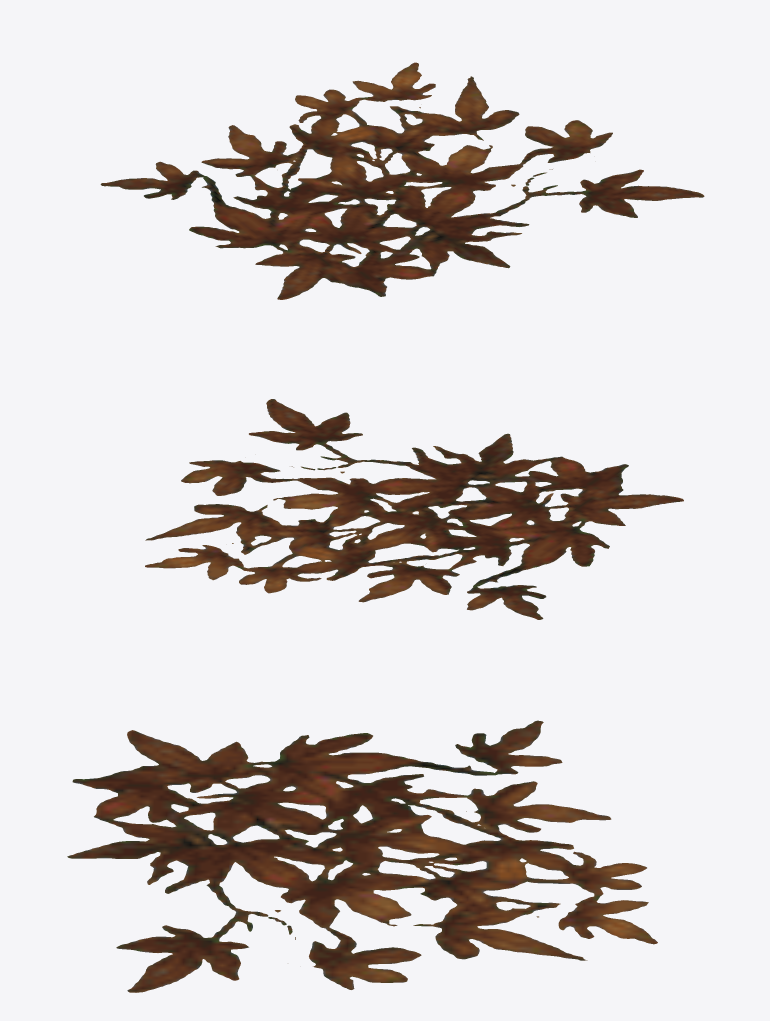
Rendered from 7003_Item_luoye_3.FBX.
The picture shows the model from 3 angles, top to bottom: view 1: azimuth 30°, elevation 25°; view 2: azimuth 150°, elevation 25°; view 3: azimuth 270°, elevation 25°; orthographic projection. The views are drawn at different scales.
Parts seen in each view (by area): view 1: 7003_Item_luoye_3; view 2: 7003_Item_luoye_3; view 3: 7003_Item_luoye_3.
Part boxes in pixels (x1,y1,x2,y2): 7003_Item_luoye_3: (100,62,704,299); 7003_Item_luoye_3: (145,399,683,619); 7003_Item_luoye_3: (67,720,657,992).
Bounding box in the file's own units: 71.02 × 74.88 × 0.
Materials: 1 (1 with a texture image).
